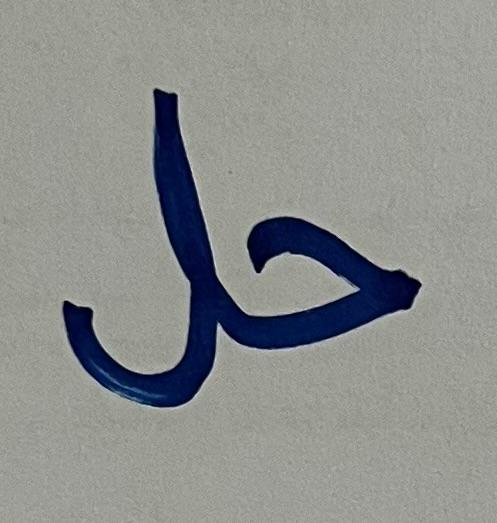hah: (241, 100, 448, 450)
lam: (39, 22, 234, 434)
